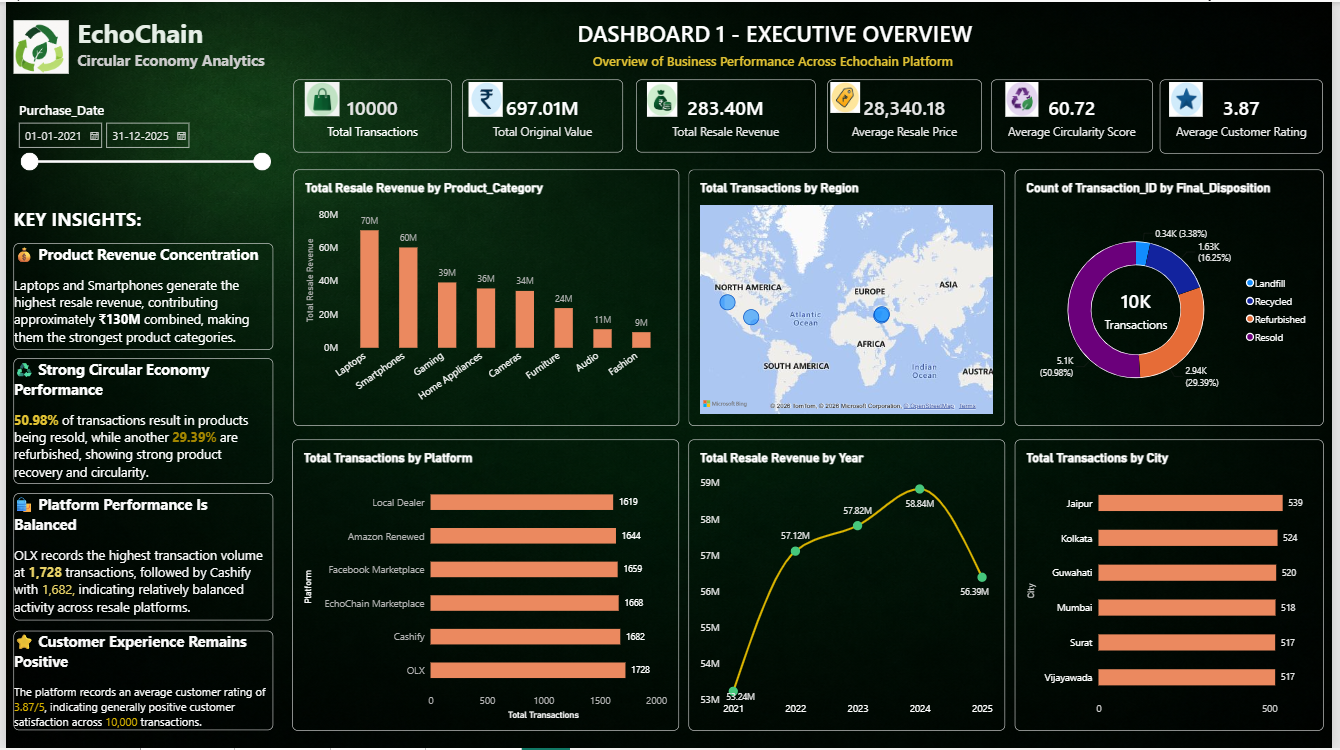

The dashboard page shown, as its layout file describes it:
{"tool":"powerbi","page":{"name":"Page 1","canvas":[1920,1080],"ordinal":0},"visuals":[{"type":"card","fields":{"Values":["EchoChain_Data_Cleaned.Total Transactions"]},"box":[416.4,112.7,229.1,105.5],"z":0},{"type":"card","fields":{"Values":["EchoChain_Data_Cleaned.Total Original Value"]},"box":[660,112.7,232.7,105.5],"z":1000},{"type":"card","fields":{"Values":["EchoChain_Data_Cleaned.Total Resale Revenue"]},"box":[912.7,112.7,260,105.5],"z":2000},{"type":"card","fields":{"Values":["EchoChain_Data_Cleaned.Average Resale Price"]},"box":[1189.1,112.7,223.6,105.5],"z":3000},{"type":"card","fields":{"Values":["EchoChain_Data_Cleaned.Average Circularity Score"]},"box":[1425.5,112.7,234.5,105.5],"z":4000},{"type":"card","fields":{"Values":["EchoChain_Data_Cleaned.Average Customer Rating"]},"box":[1670.9,112.7,236.4,107.3],"z":5000},{"type":"textbox","box":[378.2,23.6,1478.2,63.6],"z":6000},{"type":"textbox","box":[523.6,72.7,1174.5,40],"z":7000},{"type":"textbox","box":[103.6,20,283.6,145.5],"z":8000},{"type":"clusteredColumnChart","fields":{"Category":["EchoChain_Data_Cleaned.Product_Category"],"Y":["EchoChain_Data_Cleaned.Total Resale Revenue"]},"box":[416.4,241.8,558.2,370.9],"z":9000},{"type":"clusteredBarChart","fields":{"Category":["EchoChain_Data_Cleaned.Platform"],"Y":["EchoChain_Data_Cleaned.Total Transactions"]},"box":[414.5,632.7,560,421.8],"z":10000},{"type":"donutChart","fields":{"Category":["EchoChain_Data_Cleaned.Final_Disposition"],"Y":["CountNonNull(EchoChain_Data_Cleaned.Transaction_ID)"]},"box":[1460,241.8,447.3,370.9],"z":11000},{"type":"map","fields":{"Category":["EchoChain_Data_Cleaned.Region"],"Size":["EchoChain_Data_Cleaned.Total Transactions"]},"box":[987.3,241.8,458.2,370.9],"z":12000},{"type":"lineChart","fields":{"Category":["EchoChain_Data_Cleaned.Purchase_Date.Variation.Date Hierarchy.Year","EchoChain_Data_Cleaned.Purchase_Date.Variation.Date Hierarchy.Quarter","EchoChain_Data_Cleaned.Purchase_Date.Variation.Date Hierarchy.Month","EchoChain_Data_Cleaned.Purchase_Date.Variation.Date Hierarchy.Day"],"Y":["EchoChain_Data_Cleaned.Total Resale Revenue"]},"box":[987.3,632.7,458.2,421.8],"z":13000},{"type":"clusteredBarChart","fields":{"Category":["EchoChain_Data_Cleaned.City"],"Y":["EchoChain_Data_Cleaned.Total Transactions"]},"box":[1460,632.7,447.3,421.8],"z":14000},{"type":"image","box":[432.7,116.4,50,50],"z":15000},{"type":"image","box":[669.1,116.4,50,50],"z":16000},{"type":"image","box":[925.5,116.4,50,50],"z":17000},{"type":"image","box":[1192.7,116.4,45,45],"z":18000},{"type":"image","box":[1445.5,116.4,50,50],"z":19000},{"type":"image","box":[1683.6,116.4,50,50],"z":20000},{"type":"slicer","fields":{"Values":["EchoChain_Data_Cleaned.Purchase_Date"]},"box":[10.9,143.6,376.4,150.9],"z":21000},{"type":"textbox","box":[10.9,349.1,376.4,154.5],"z":22000},{"type":"textbox","box":[10.9,294.5,220,41.8],"z":23000},{"type":"textbox","box":[10.9,516.4,376.4,181.8],"z":24000},{"type":"image","box":[10.9,20,80,90.9],"z":25000},{"type":"textbox","box":[10.9,710.9,376.4,183.6],"z":26000},{"type":"textbox","box":[10.9,910.9,376.4,143.6],"z":27000}]}

Visuals, with their boxes in screenshot pixels (x1, y1, x2, y2), scaled from the page's 1920x1080 canvas onto the 1340x750 screenshot:
card - EchoChain_Data_Cleaned.Total Transactions: 291:78:451:152
card - EchoChain_Data_Cleaned.Total Original Value: 461:78:623:152
card - EchoChain_Data_Cleaned.Total Resale Revenue: 637:78:818:152
card - EchoChain_Data_Cleaned.Average Resale Price: 830:78:986:152
card - EchoChain_Data_Cleaned.Average Circularity Score: 995:78:1159:152
card - EchoChain_Data_Cleaned.Average Customer Rating: 1166:78:1331:153
textbox: 264:16:1296:61
textbox: 365:50:1185:78
textbox: 72:14:270:115
clusteredColumnChart - EchoChain_Data_Cleaned.Product_Category x EchoChain_Data_Cleaned.Total Resale Revenue: 291:168:680:425
clusteredBarChart - EchoChain_Data_Cleaned.Platform x EchoChain_Data_Cleaned.Total Transactions: 289:439:680:732
donutChart - EchoChain_Data_Cleaned.Final_Disposition x CountNonNull(EchoChain_Data_Cleaned.Transaction_ID): 1019:168:1331:425
map - EchoChain_Data_Cleaned.Region x EchoChain_Data_Cleaned.Total Transactions: 689:168:1009:425
lineChart - EchoChain_Data_Cleaned.Purchase_Date.Variation.Date Hierarchy.Year x EchoChain_Data_Cleaned.Purchase_Date.Variation.Date Hierarchy.Quarter: 689:439:1009:732
clusteredBarChart - EchoChain_Data_Cleaned.City x EchoChain_Data_Cleaned.Total Transactions: 1019:439:1331:732
image: 302:81:337:116
image: 467:81:502:116
image: 646:81:681:116
image: 832:81:864:112
image: 1009:81:1044:116
image: 1175:81:1210:116
slicer - EchoChain_Data_Cleaned.Purchase_Date: 8:100:270:205
textbox: 8:242:270:350
textbox: 8:205:161:234
textbox: 8:359:270:485
image: 8:14:63:77
textbox: 8:494:270:621
textbox: 8:633:270:732
